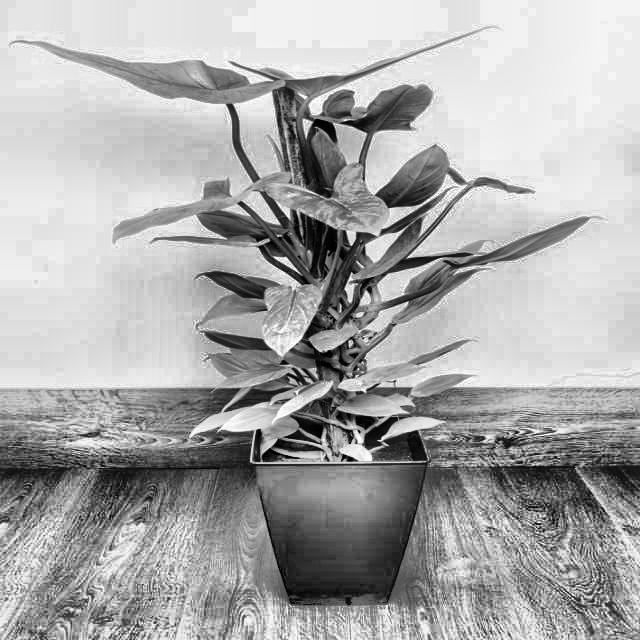plants: (81, 47, 570, 616)
